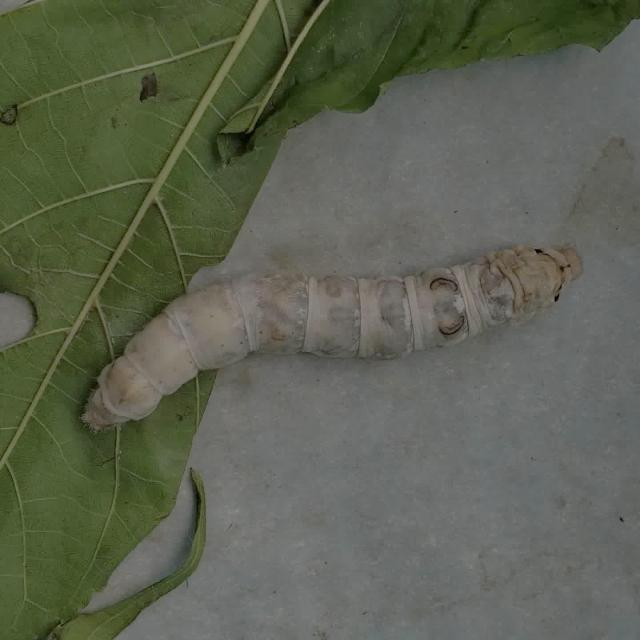Grasserie: (69, 218, 596, 471)
